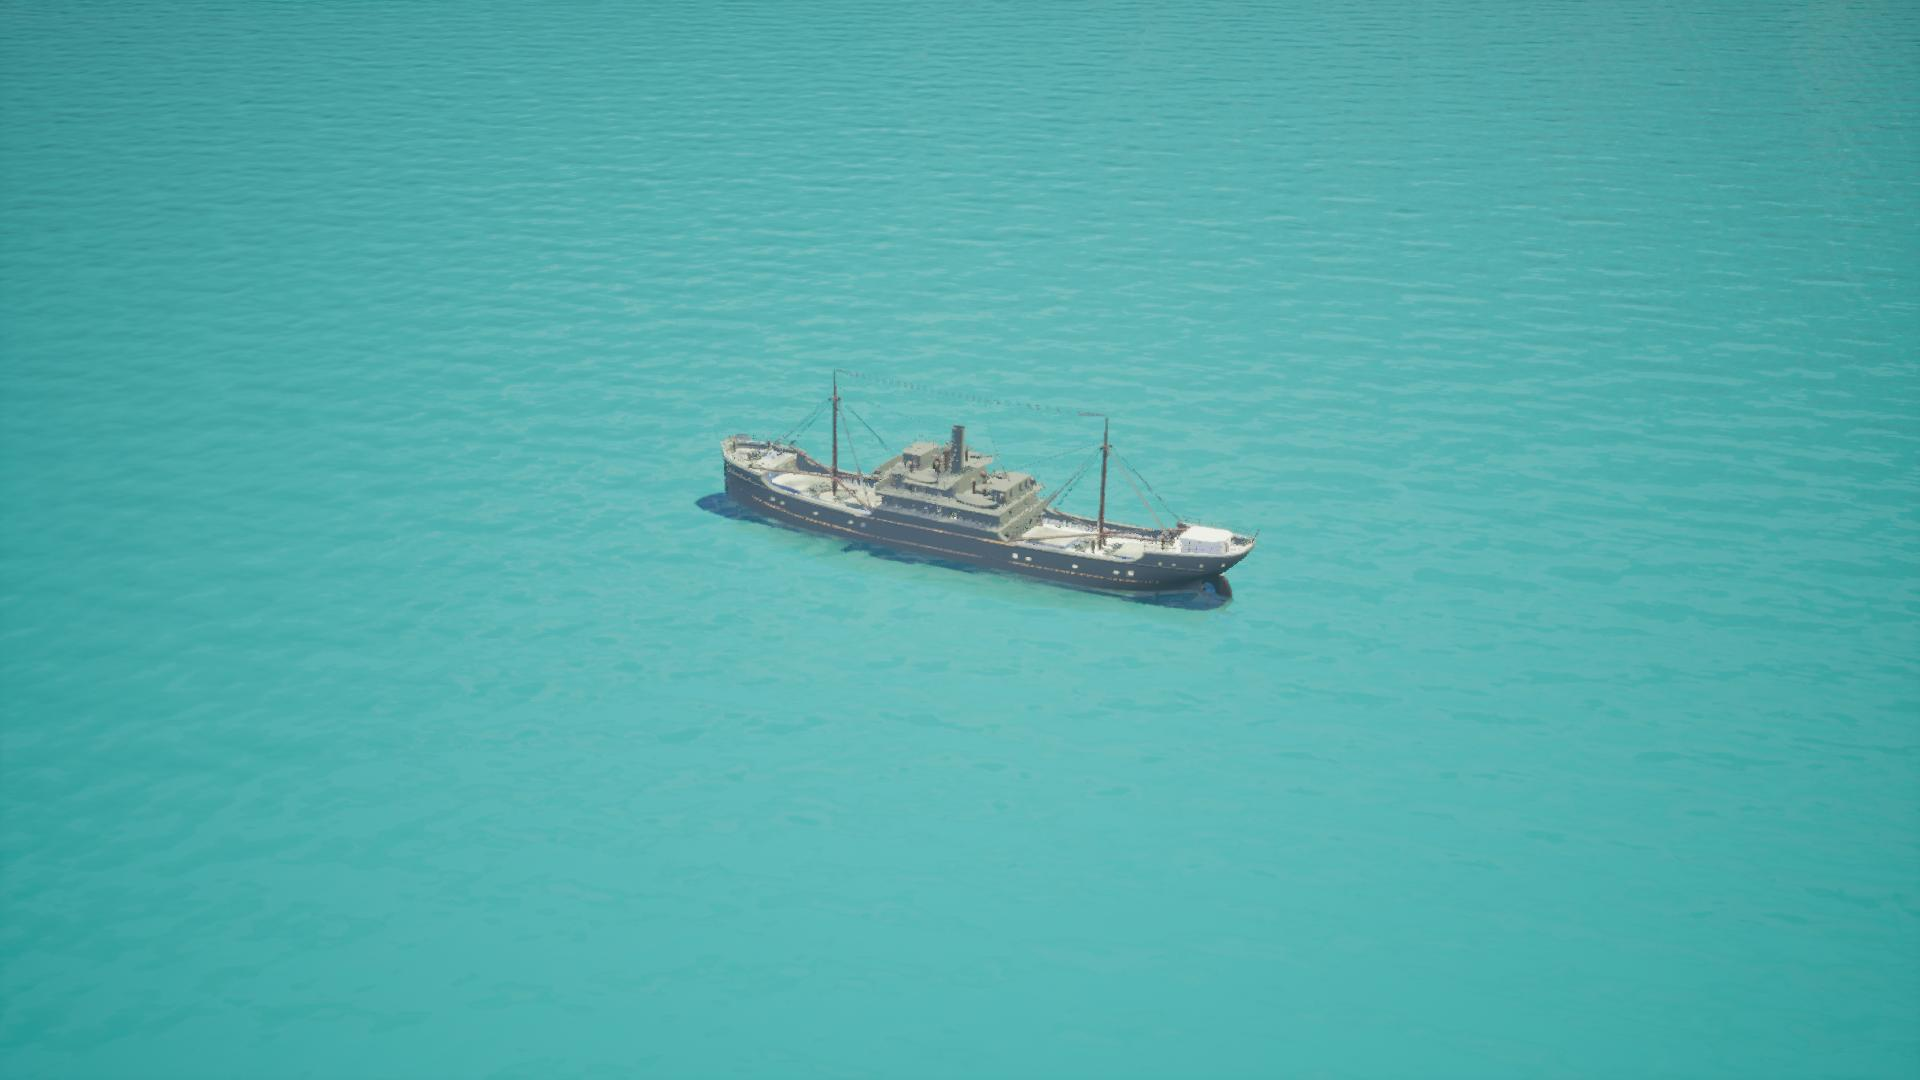Fishing Boat: (711, 398, 1251, 608)
